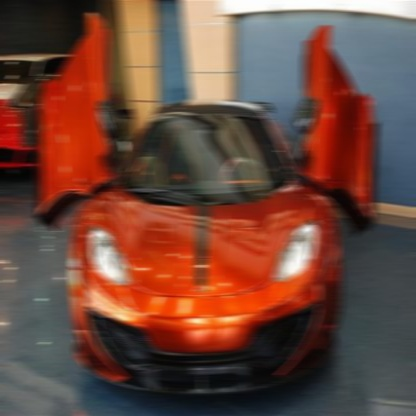Vehicle: (38, 13, 376, 403)
